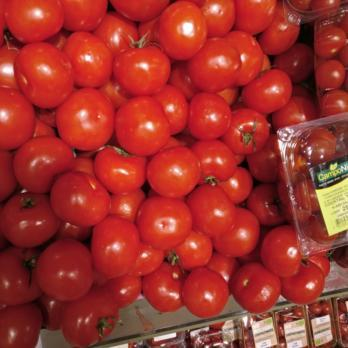Tomato: (146, 1, 327, 308), (0, 1, 144, 347)
